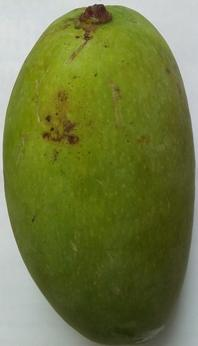Unripe: (0, 1, 198, 346)
